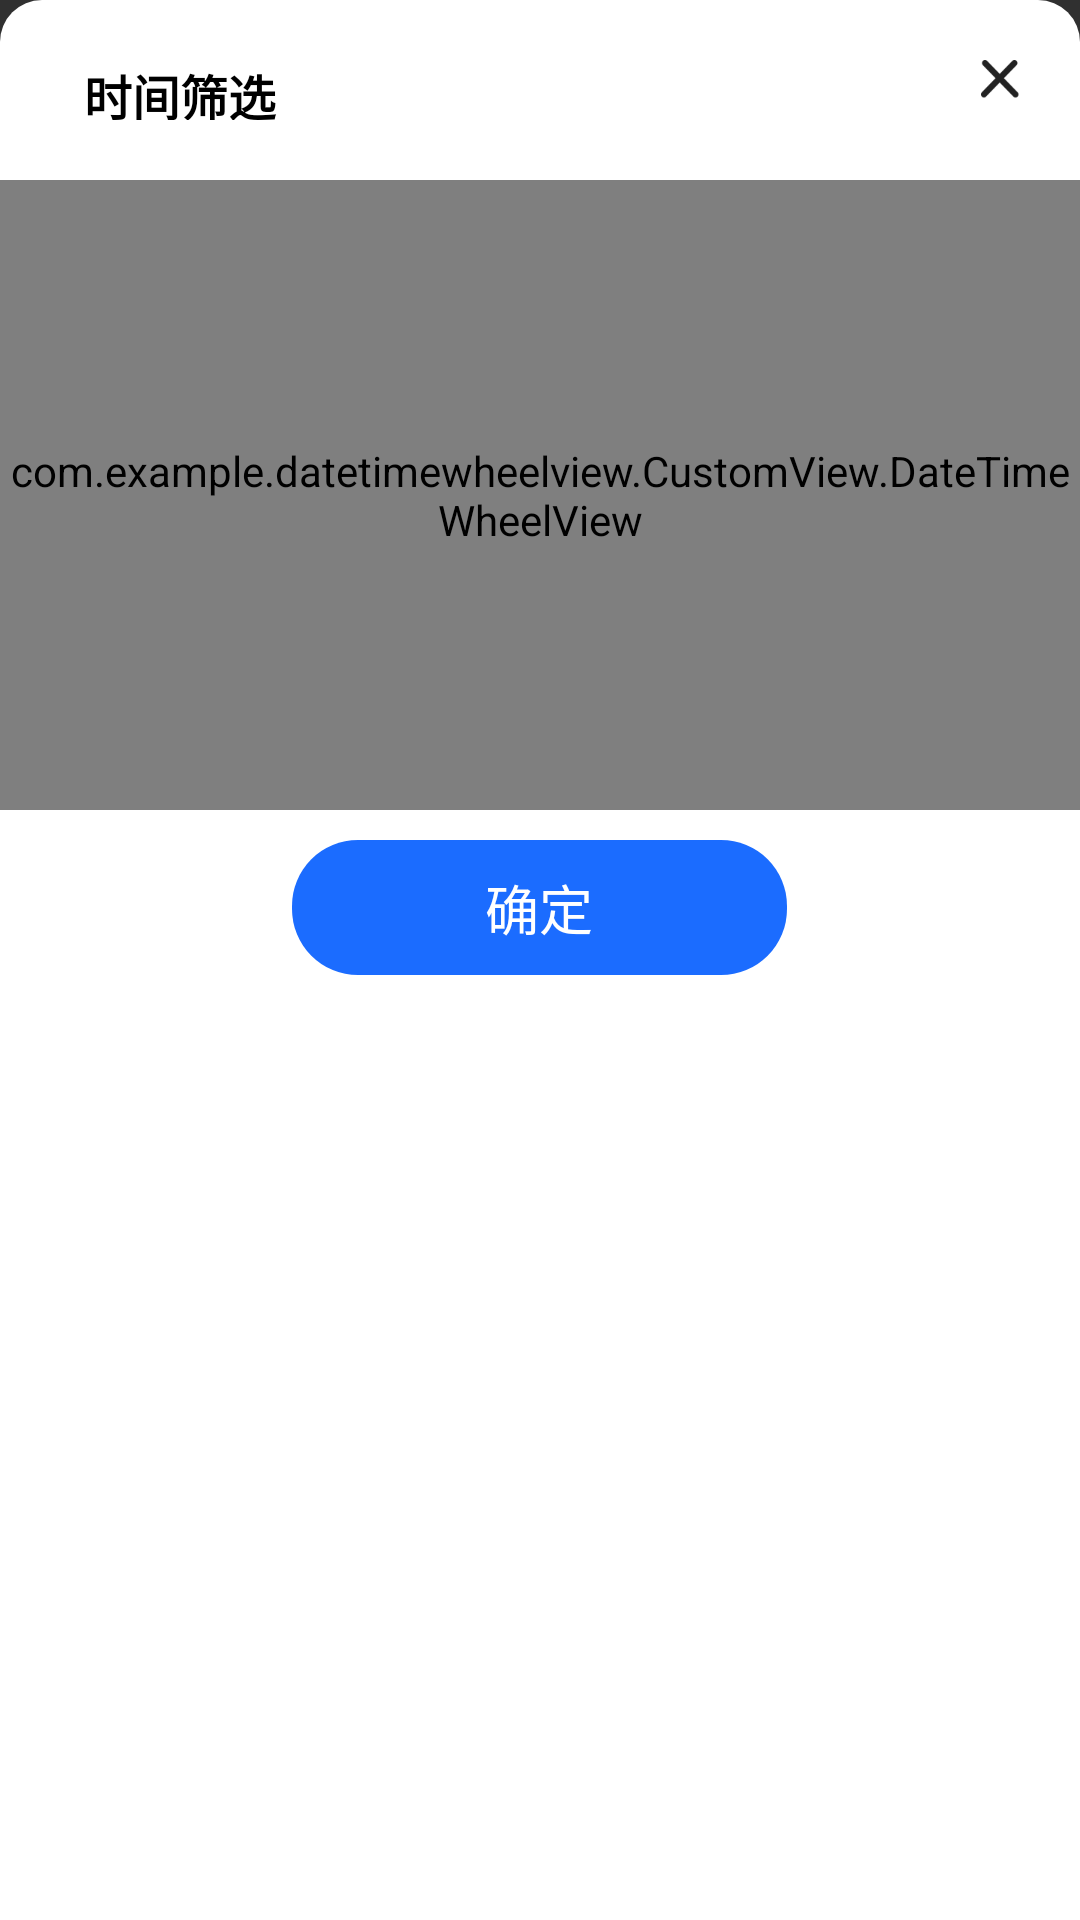

Icons on this 1080 × 1920 Android screen, each with the point to tap as [x,y]:
study calendar pop cancel: [1000,79]
